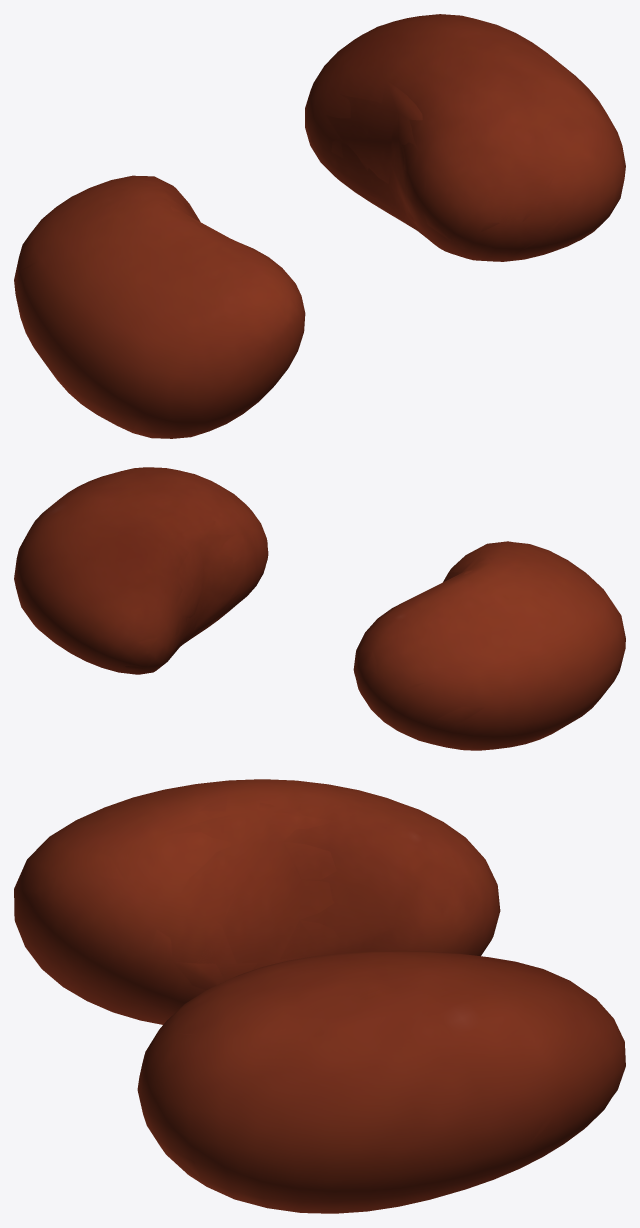
The model's file is Kidney.fbx.
3 renders of one model, top to bottom at view 1: azimuth 30°, elevation 25°; view 2: azimuth 150°, elevation 25°; view 3: azimuth 270°, elevation 25°, orthographic. The views are drawn at different scales.
Parts seen in each view (by area): view 1: Kidney, Kidney low; view 2: Kidney, Kidney low; view 3: Kidney, Kidney low.
Boxes of the visible parts, box(x1,y1,x2,y2) form: Kidney: box(14, 14, 625, 438); Kidney low: box(21, 80, 623, 438); Kidney: box(14, 467, 625, 750); Kidney low: box(18, 518, 534, 745); Kidney: box(14, 779, 625, 1213); Kidney low: box(24, 795, 615, 1207).
Size of the model in its own units: 9.02 by 3.31 by 6.34.
1 material, 1 textured.
